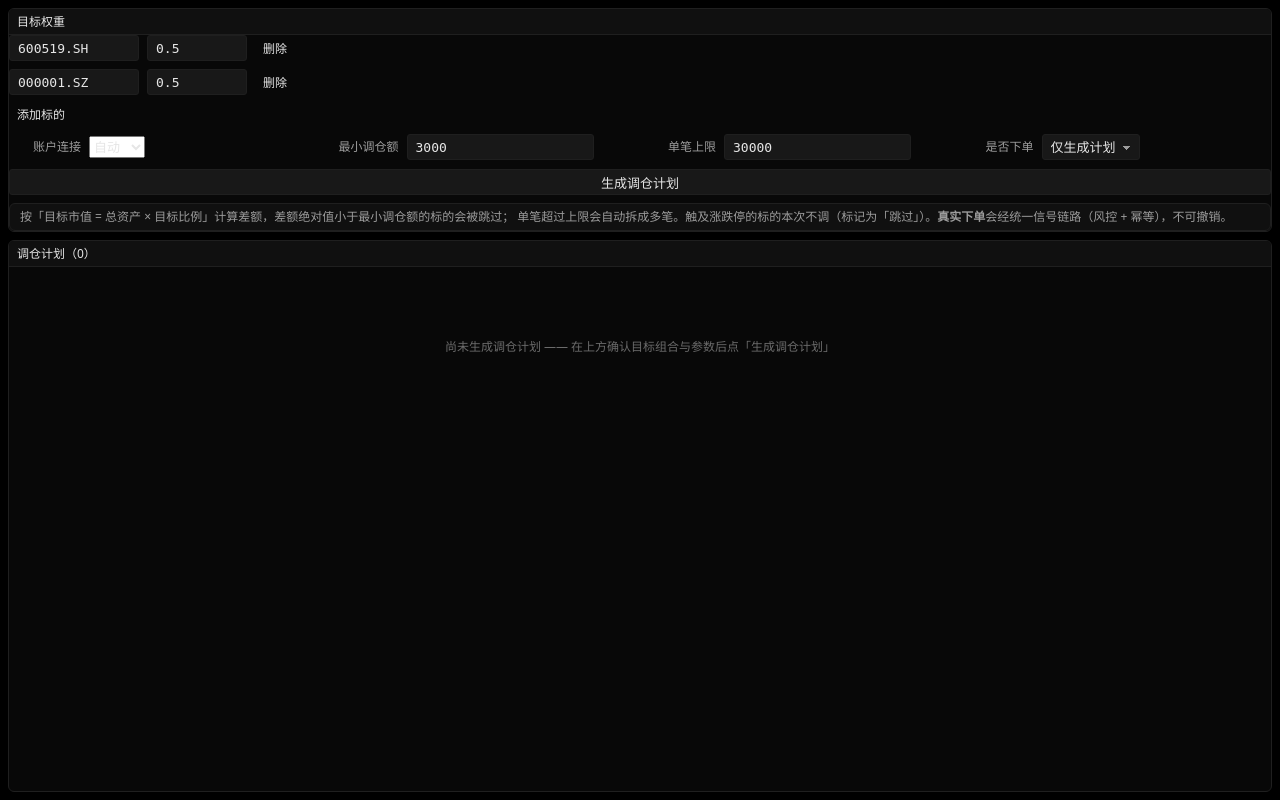
Scenario: Rebalance · 分仓再平衡 › ⑥ 「未生成」与「无需调仓」文案不同
Expected: the text "尚未生成调仓计划 —— 在上方确认目标组合与参数后点「生成调仓计划」" is shown, [445,338,835,356]
Click the button "生成调仓计划" at x=640, y=182, box [9,169,1271,195]
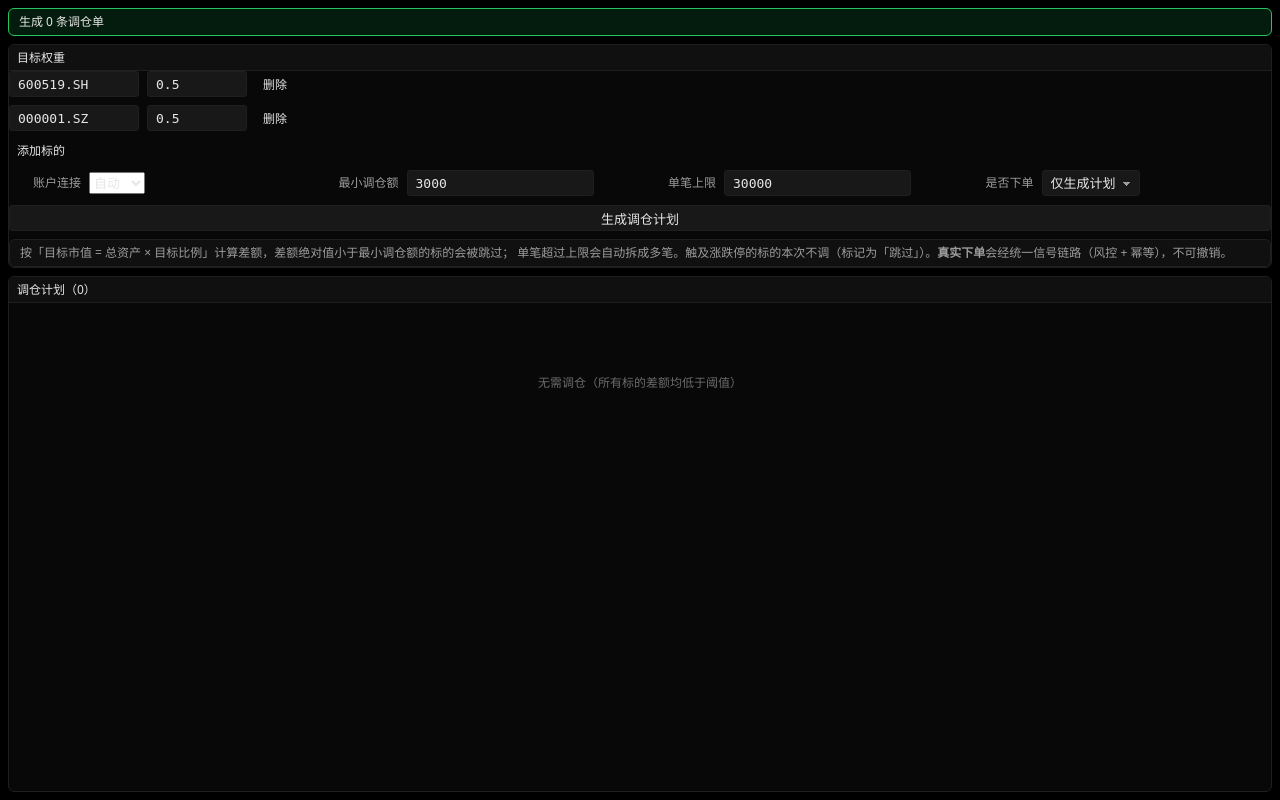
Expected: the text "无需调仓（所有标的差额均低于阈值）" is shown, [538,374,742,392]
Expected: the text "尚未生成调仓计划" is gone
